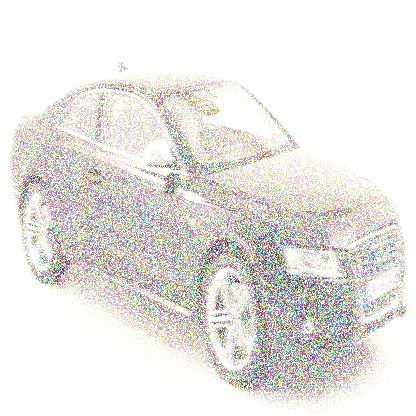Vehicle: (4, 57, 411, 389)
